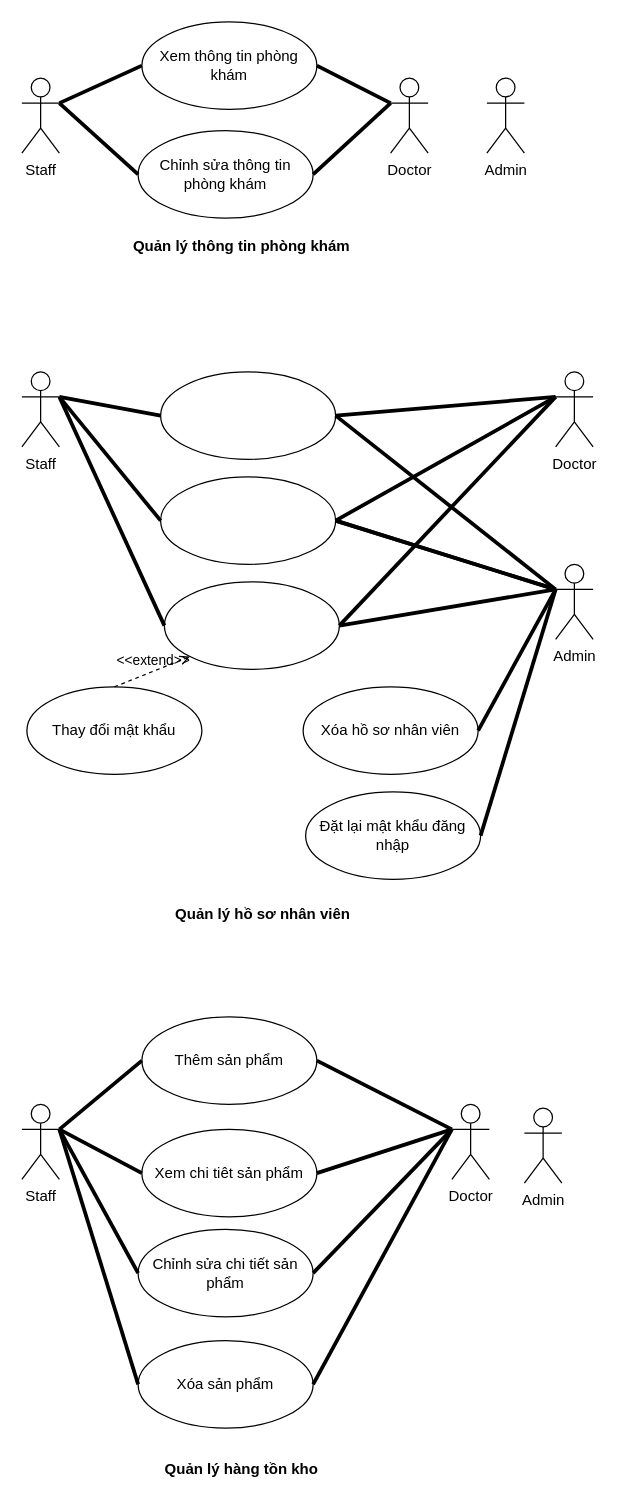
Image size: 618x1506. Some labels were removed from this diagram. The shapes that lost their labels are listed below. From the top down, each one's centre as x and y in pixels, then its label:
the point at 247,415: Đăng ký nhân viên mới
the point at 247,520: Xem hồ sơ nhân viên
the point at 251,625: Chỉnh sửa hồ sơ nhân viên
